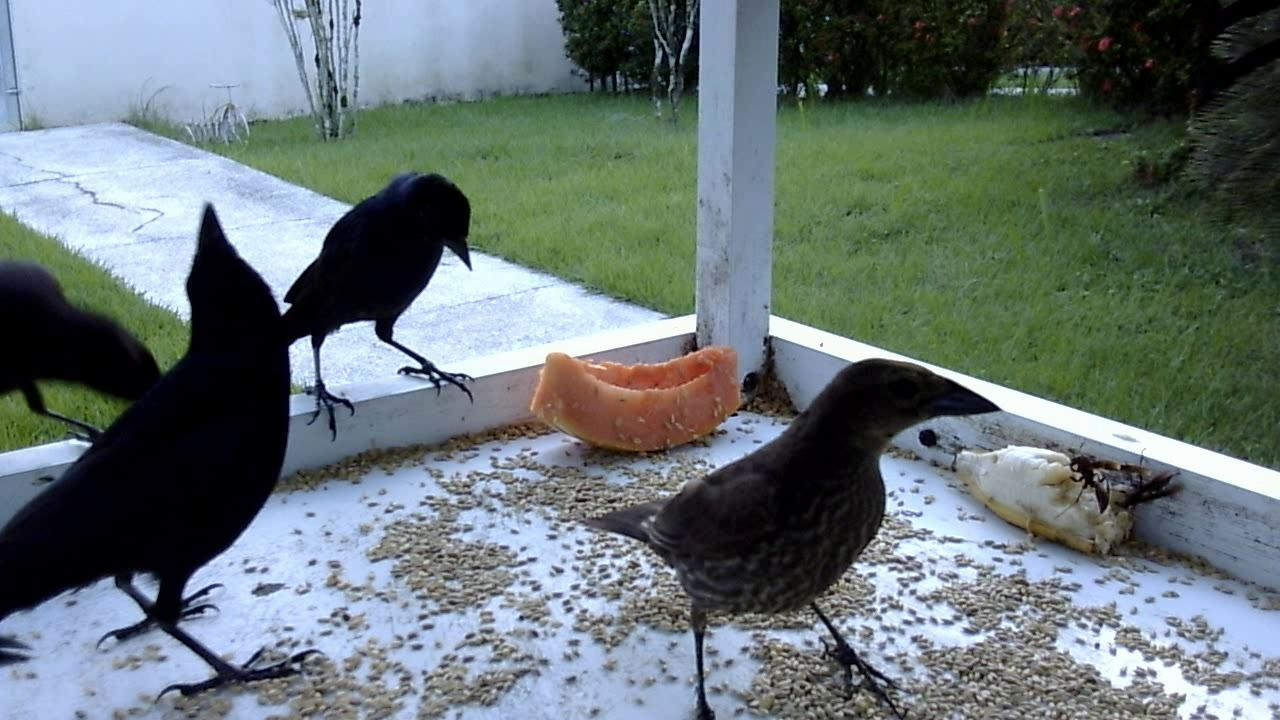chupim: (1, 202, 326, 716), (567, 354, 996, 720), (272, 160, 488, 461), (3, 255, 178, 460)
